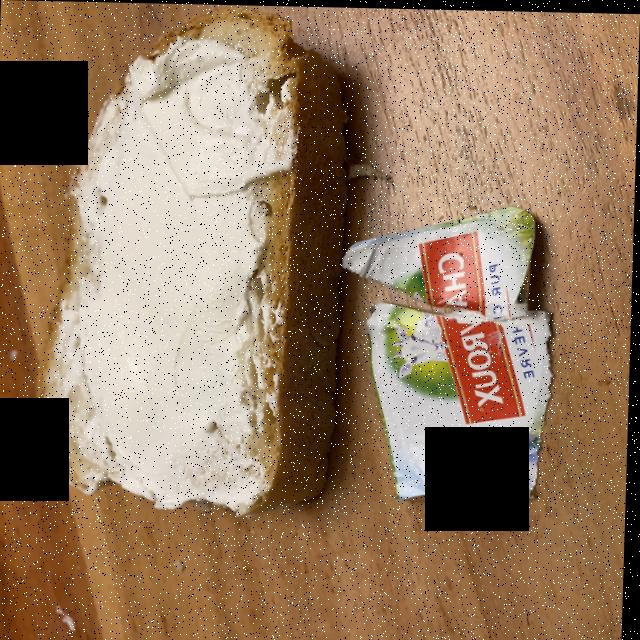bread-white: (47, 21, 343, 506)
